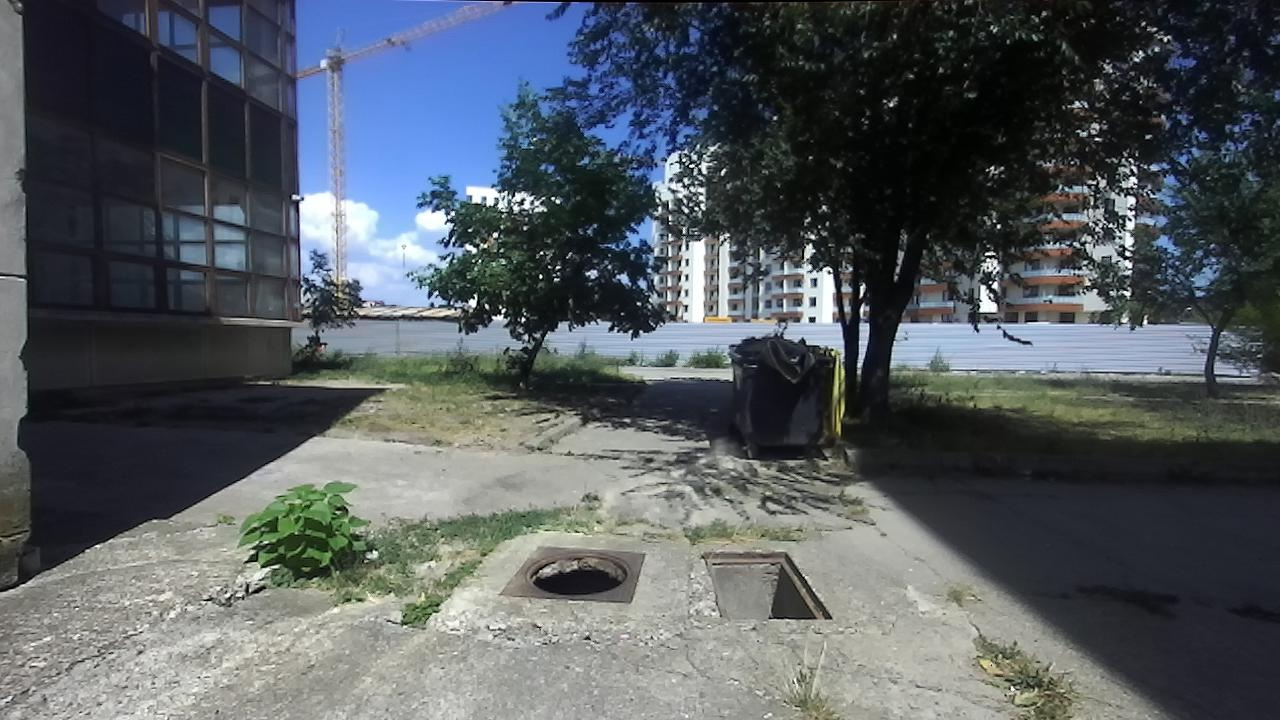drain: (697, 545, 834, 627), (523, 548, 634, 597)
